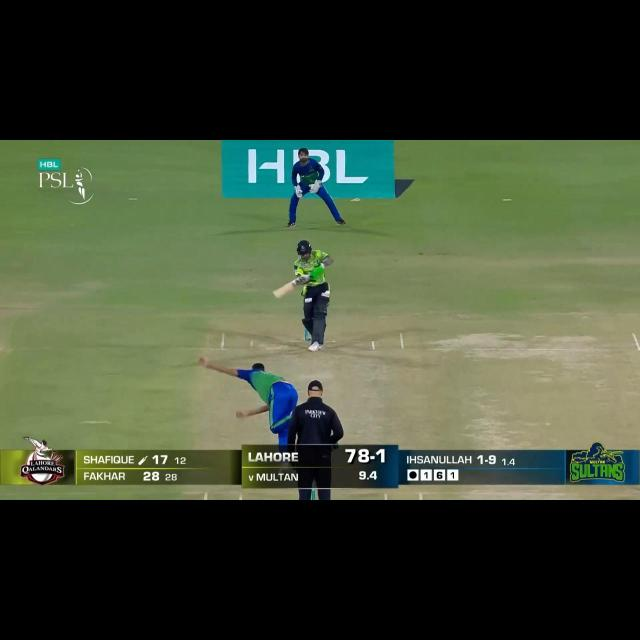bat: (274, 272, 310, 300)
toe: (274, 290, 284, 300)
